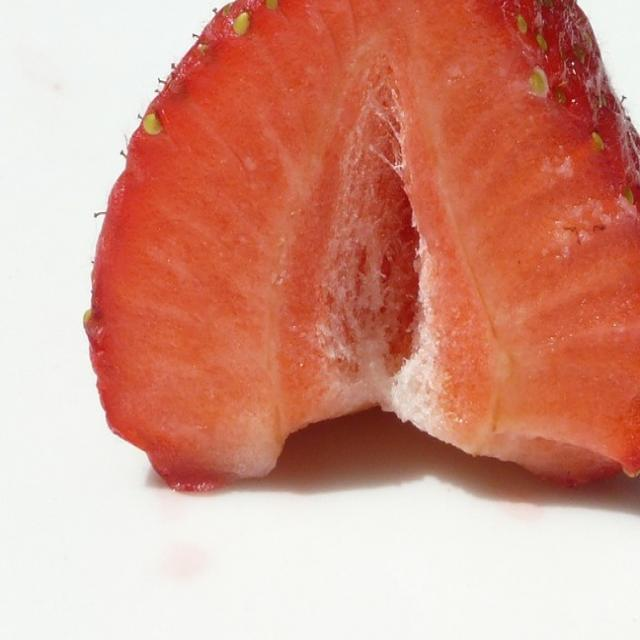strawberry: (81, 0, 640, 510)
